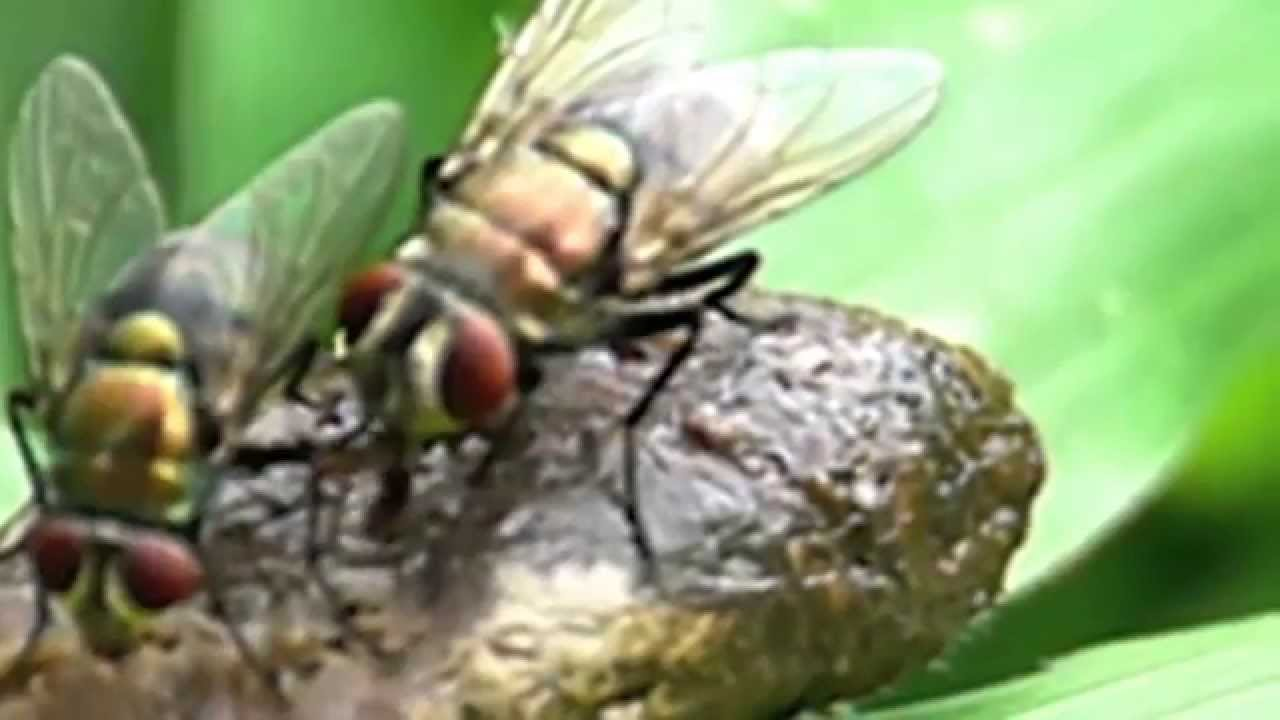fly: (338, 1, 956, 559), (1, 47, 407, 660)
